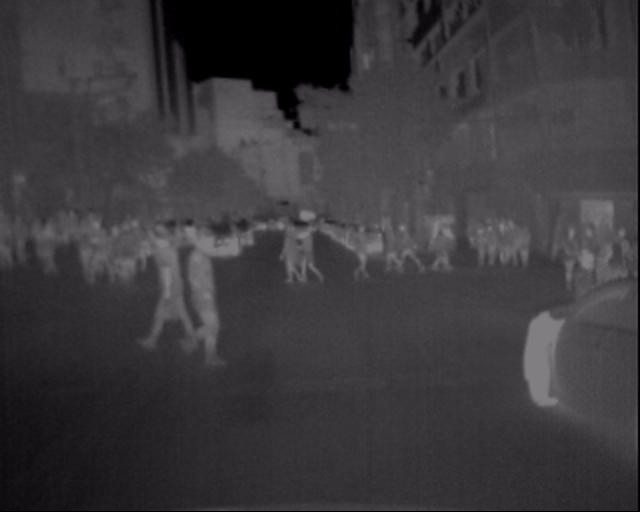person: (158, 217, 259, 379), (128, 220, 199, 364), (435, 217, 532, 277), (109, 219, 155, 299), (142, 219, 181, 308), (59, 212, 92, 288), (393, 220, 432, 281), (26, 220, 56, 290), (275, 231, 306, 286)
